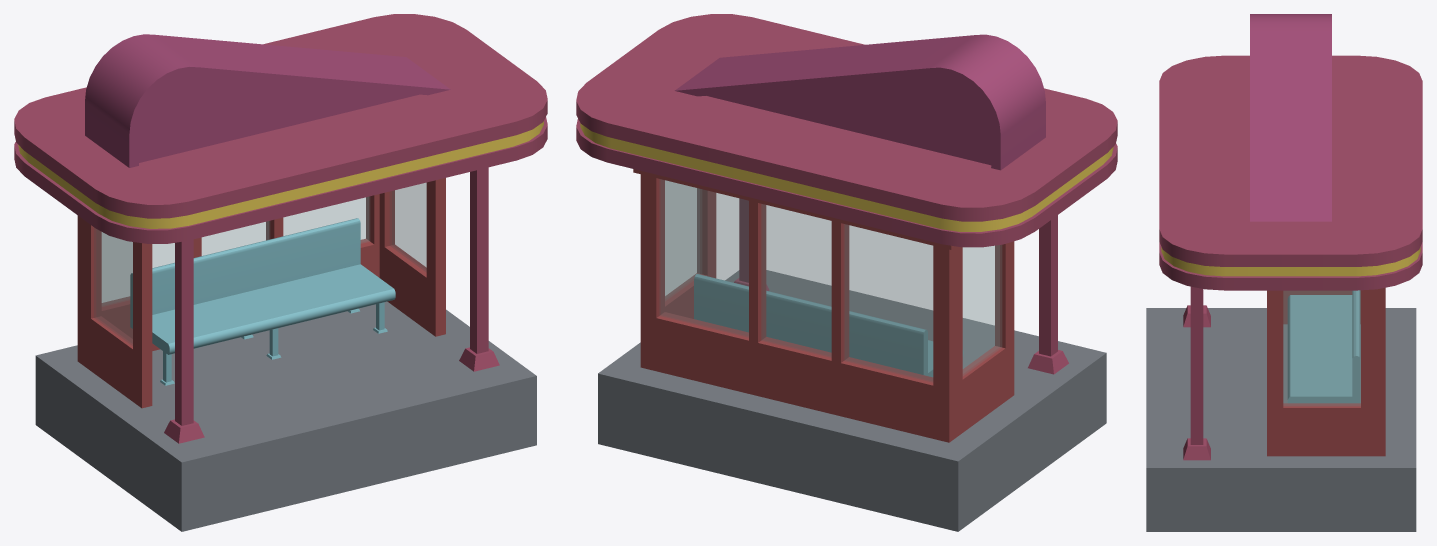
File: Bushalte_Model.fbx
3 views of the same model, side by side, from view 1: azimuth 30°, elevation 25°; view 2: azimuth 150°, elevation 25°; view 3: azimuth 270°, elevation 25° (orthographic). The views are drawn at different scales.
Parts seen in each view (by area): view 1: Bushalte_Grond, Bushalte_Dakje_rood, Bushalte_BovendeelDak, Bushalte_Bankje, Bushokje_Muren, Bushalte_Glazen, Bushokje_Pilaren, Bushalte_Dakje_Geel; view 2: Bushalte_Dakje_rood, Bushalte_Grond, Bushokje_Muren, Bushalte_Glazen, Bushalte_BovendeelDak, Bushalte_Bankje, Bushalte_Dakje_Geel, Bushokje_Pilaren; view 3: Bushalte_Dakje_rood, Bushalte_Grond, Bushalte_BovendeelDak, Bushokje_Muren, Bushalte_Glazen, Bushalte_Bankje, Bushokje_Pilaren, Bushalte_Dakje_Geel.
Part boxes in pixels (x1,y1,x2,y2): Bushalte_Grond: (35, 301, 536, 531); Bushalte_Dakje_rood: (14, 14, 547, 243); Bushalte_BovendeelDak: (85, 34, 450, 167); Bushalte_Bankje: (130, 218, 395, 385); Bushokje_Muren: (77, 178, 445, 408); Bushalte_Glazen: (94, 183, 426, 345); Bushokje_Pilaren: (164, 167, 499, 443); Bushalte_Dakje_Geel: (18, 121, 543, 228); Bushalte_Dakje_rood: (576, 14, 1117, 247); Bushalte_Grond: (598, 270, 1106, 531); Bushokje_Muren: (633, 169, 1014, 442); Bushalte_Glazen: (659, 179, 1001, 382); Bushalte_BovendeelDak: (675, 34, 1045, 170); Bushalte_Bankje: (694, 274, 963, 377); Bushalte_Dakje_Geel: (580, 123, 1113, 231); Bushokje_Pilaren: (734, 198, 1068, 374); Bushalte_Dakje_rood: (1159, 55, 1422, 290); Bushalte_Grond: (1146, 308, 1416, 531); Bushalte_BovendeelDak: (1250, 14, 1331, 221); Bushokje_Muren: (1267, 287, 1385, 456); Bushalte_Glazen: (1283, 290, 1360, 406); Bushalte_Bankje: (1287, 290, 1360, 403); Bushokje_Pilaren: (1183, 286, 1210, 460); Bushalte_Dakje_Geel: (1161, 247, 1420, 276).
Size of the model in its own units: 0.0291 by 0.0257 by 0.017.
